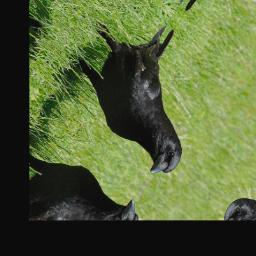Crow: (52, 0, 234, 188)
